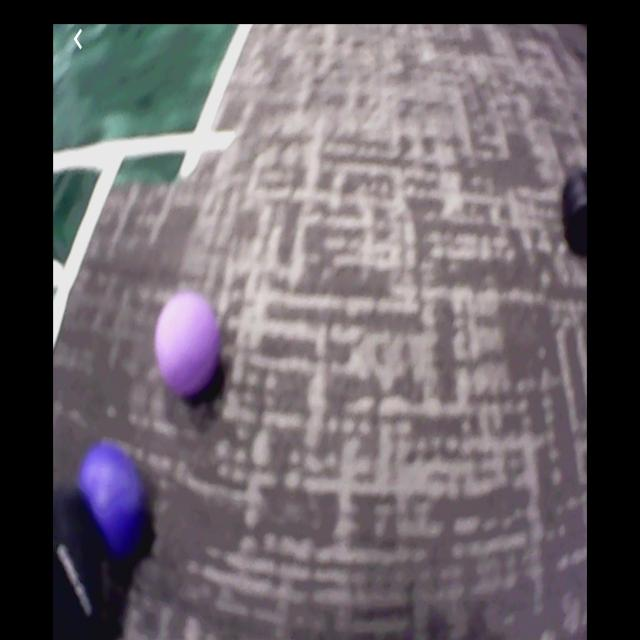ball: (82, 445, 153, 570), (156, 298, 223, 398)
